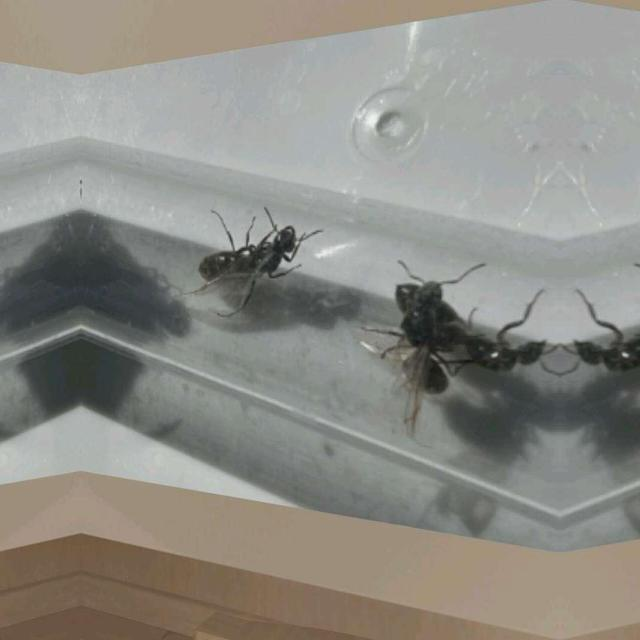Lasius: (391, 265, 547, 377), (193, 196, 293, 308), (386, 261, 459, 405), (572, 265, 640, 377)
